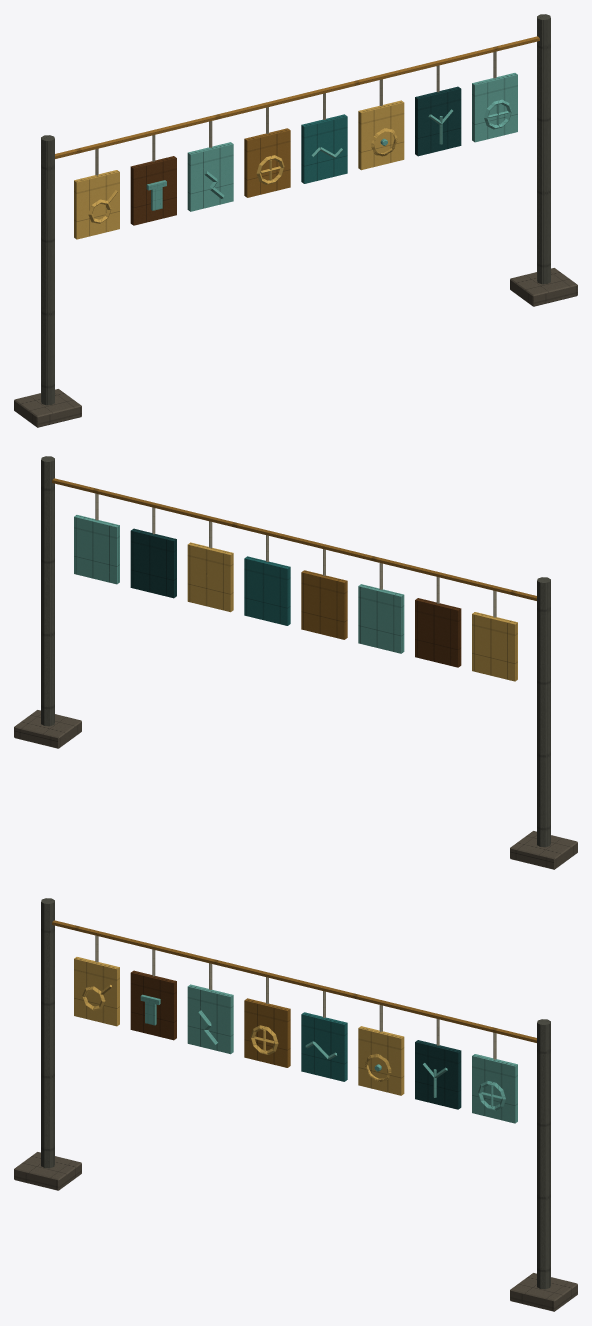
Rendered from journey-flag-line.e8.glb.
3 renders of one model, top to bottom at view 1: azimuth 30°, elevation 25°; view 2: azimuth 150°, elevation 25°; view 3: azimuth 330°, elevation 25°, orthographic.
Visible parts, largest first — view 1: JourneyFlagLineE8; view 2: JourneyFlagLineE8; view 3: JourneyFlagLineE8.
Part boxes in pixels (x1,y1,x2,y2): JourneyFlagLineE8: (14,14,577,427); JourneyFlagLineE8: (14,456,577,869); JourneyFlagLineE8: (14,898,577,1311).
Bounding box in the file's own units: 4.76 × 2.32 × 0.36.
1 material, 1 textured.
